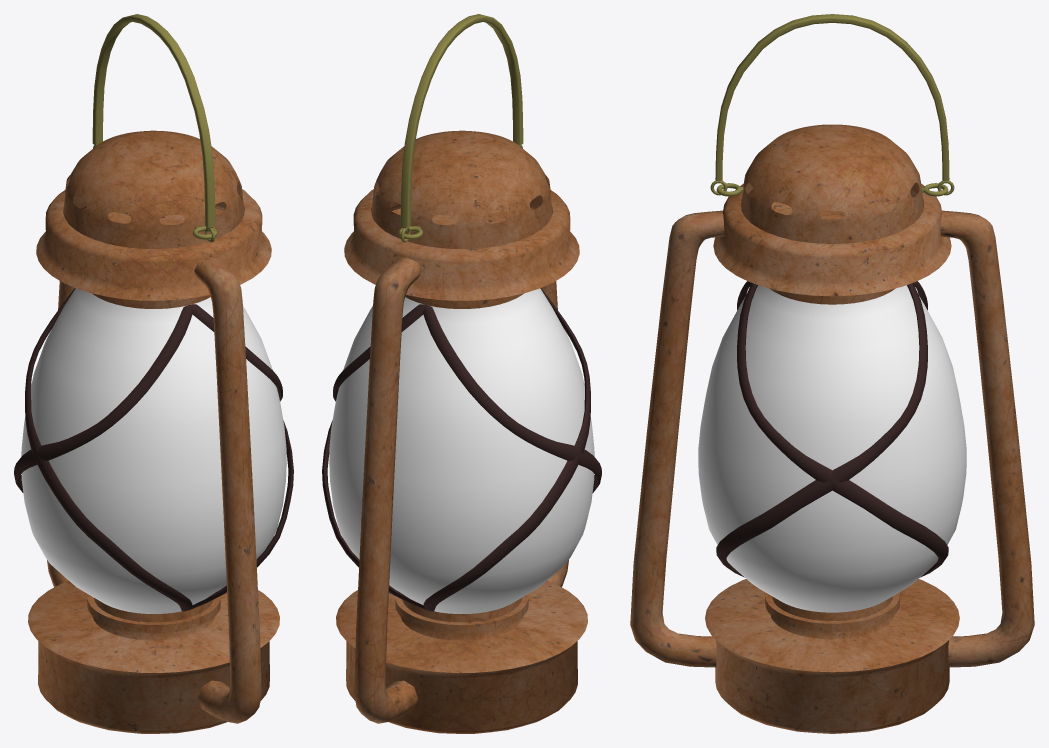
Rendered from Lantern_New (1).fbx.
3 renders of one model, left to right at view 1: azimuth 30°, elevation 25°; view 2: azimuth 150°, elevation 25°; view 3: azimuth 270°, elevation 25°, orthographic.
Parts seen in each view (by area): view 1: Circle.001; view 2: Circle.001; view 3: Circle.001.
Part boxes in pixels (x1,y1,x2,y2): Circle.001: (14, 14, 293, 733); Circle.001: (322, 14, 601, 733); Circle.001: (630, 14, 1034, 733).
Bounding box in the file's own units: 30.12 × 80.92 × 44.21.
4 materials, 1 textured.
